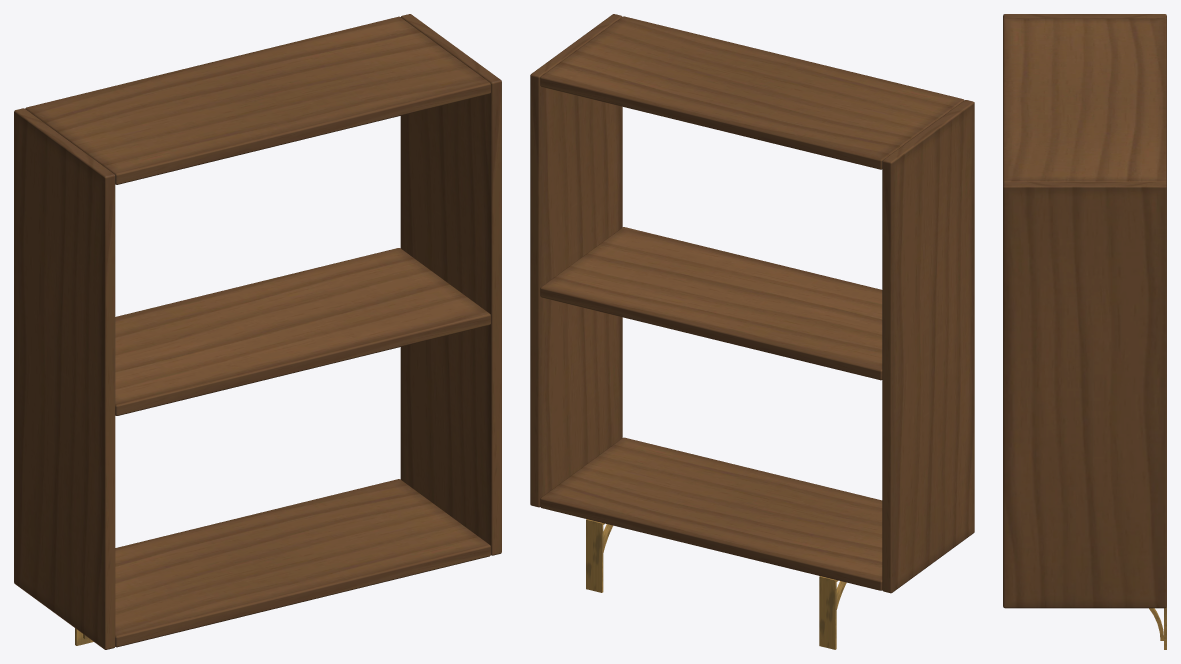
The model's file is shelf.glb.
3 views of the same model, side by side, from view 1: azimuth 30°, elevation 25°; view 2: azimuth 150°, elevation 25°; view 3: azimuth 270°, elevation 25° (orthographic). The views are drawn at different scales.
Parts seen in each view (by area): view 1: shelf_body; view 2: shelf_body, shelf_brackets; view 3: shelf_body, shelf_brackets.
Part boxes in pixels (x1,y1,x2,y2): shelf_body: (14,14,501,649); shelf_body: (530,14,974,593); shelf_brackets: (586,519,846,649); shelf_body: (1003,14,1166,608); shelf_brackets: (1149,607,1166,649).
Bounding box in the file's own units: 9 × 11.9 × 3.6.
Materials: 2 (2 with a texture image).
